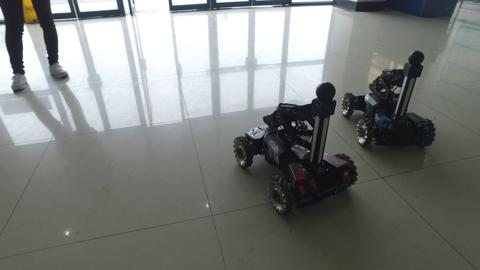chariot: (224, 80, 364, 219), (338, 44, 446, 154)
